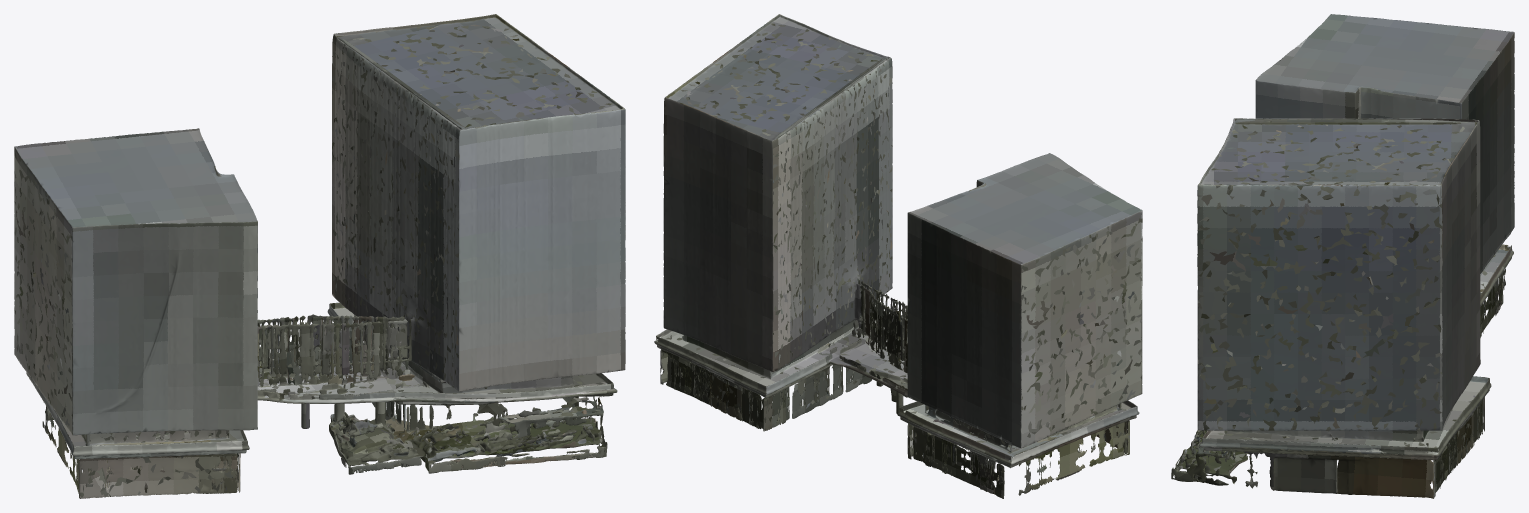
File: new_office.glb
3 renders of one model, left to right at view 1: azimuth 30°, elevation 25°; view 2: azimuth 150°, elevation 25°; view 3: azimuth 270°, elevation 25°, orthographic. The views are drawn at different scales.
Visible parts, largest first — view 1: input; view 2: input; view 3: input.
Part boxes in pixels (x1,y1,x2,y2): input: [14, 14, 625, 498]; input: [654, 14, 1142, 498]; input: [1171, 14, 1514, 498].
Size of the model in its own units: 0.9998 by 0.6378 by 0.638.
Materials: 1 (1 with a texture image).
